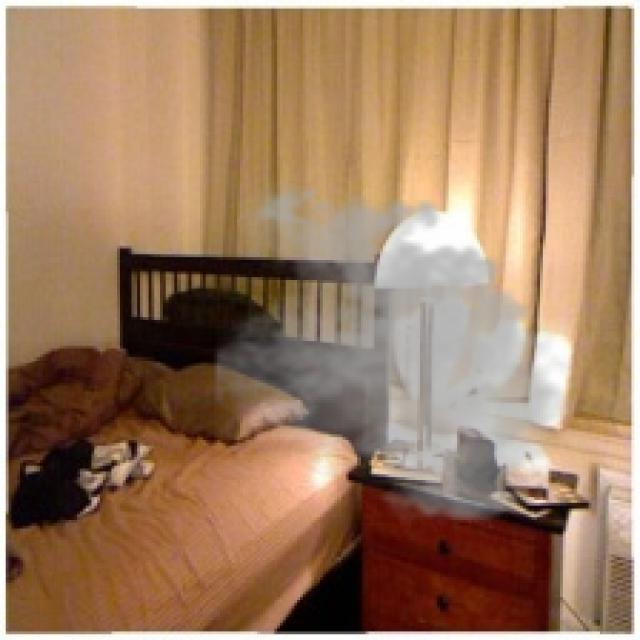smoke: (211, 174, 580, 532)
